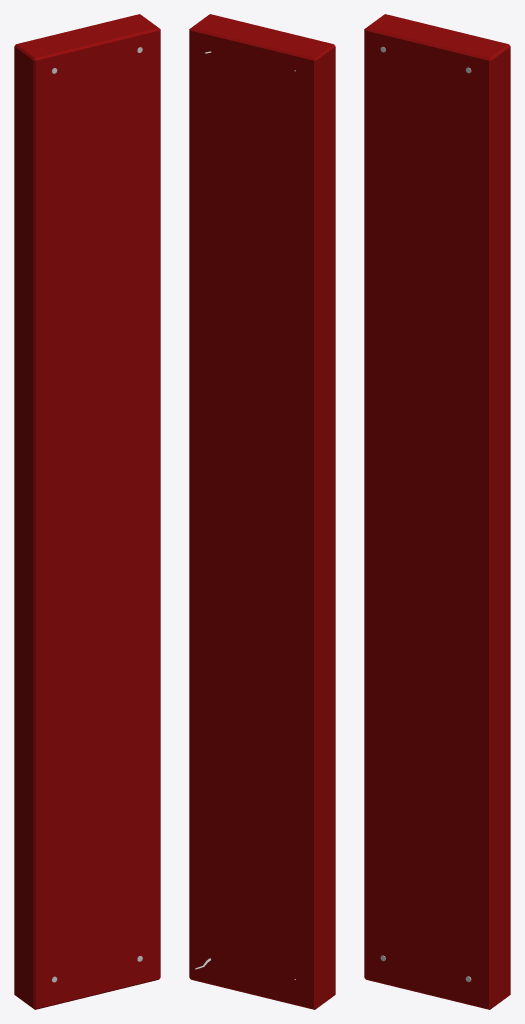
Rendered from plywood_set_3.FBX.
3 renders of one model, left to right at view 1: azimuth 30°, elevation 25°; view 2: azimuth 150°, elevation 25°; view 3: azimuth 330°, elevation 25°, orthographic.
Parts seen in each view (by area): view 1: plywood_set_rc_3; view 2: plywood_set_rc_3; view 3: plywood_set_rc_3.
Part boxes in pixels (box(x1,y1,x2,y2)): plywood_set_rc_3: box(14, 14, 160, 1009); plywood_set_rc_3: box(189, 14, 335, 1009); plywood_set_rc_3: box(364, 14, 510, 1009).
Size of the model in its own units: 14 by 100 by 6.85.
